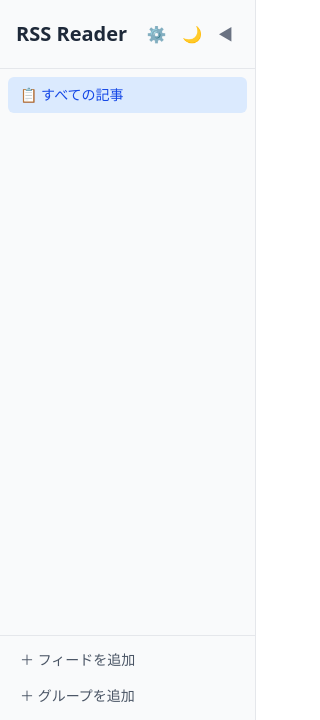
Sidebar（特性テスト） › フィード追加: URL を入力して追加すると feedsApi.create が呼ばれフォームが閉じる
Click the button "＋ フィードを追加".
click(128, 660)  # box [8,644,247,676]
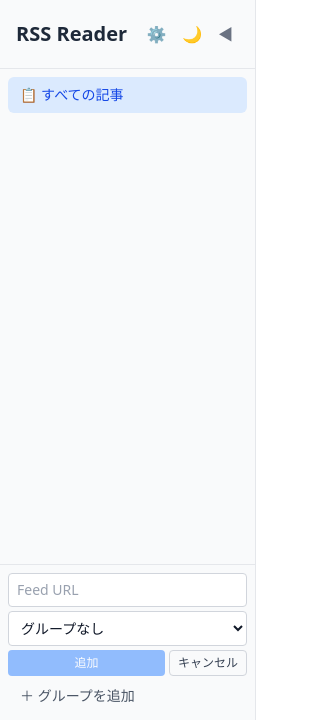
Type "https://example.com" into the field with placeholder "Feed URL".
click(128, 590); type("https://example.com")  # box [8,573,247,607]
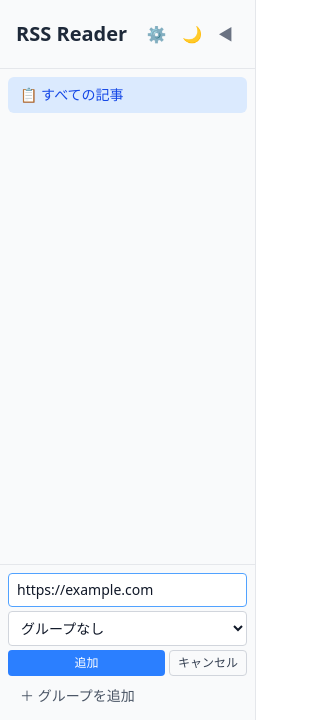
Click the button "追加".
click(86, 663)  # box [8,650,165,676]
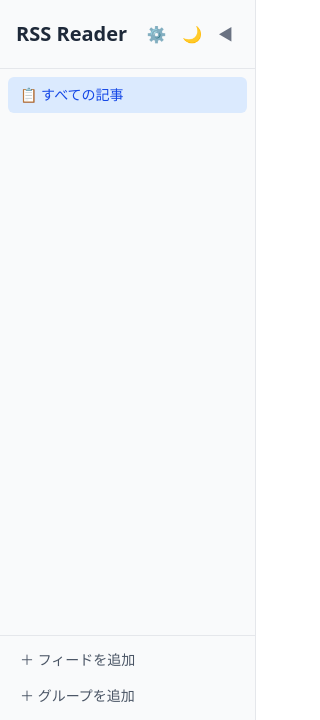
Result: the field with placeholder "Feed URL" is gone
